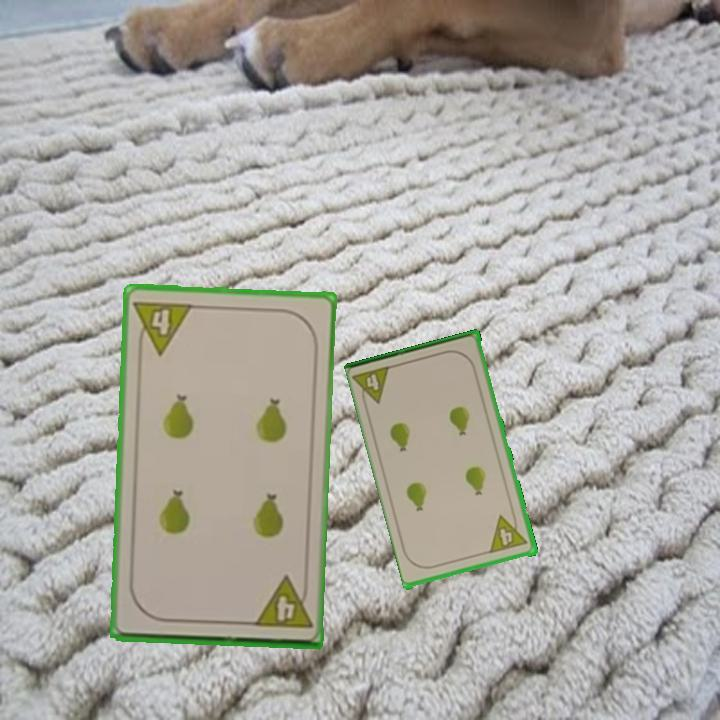4p: (130, 296, 196, 357), (250, 573, 315, 631), (351, 362, 395, 410), (487, 510, 531, 556)
